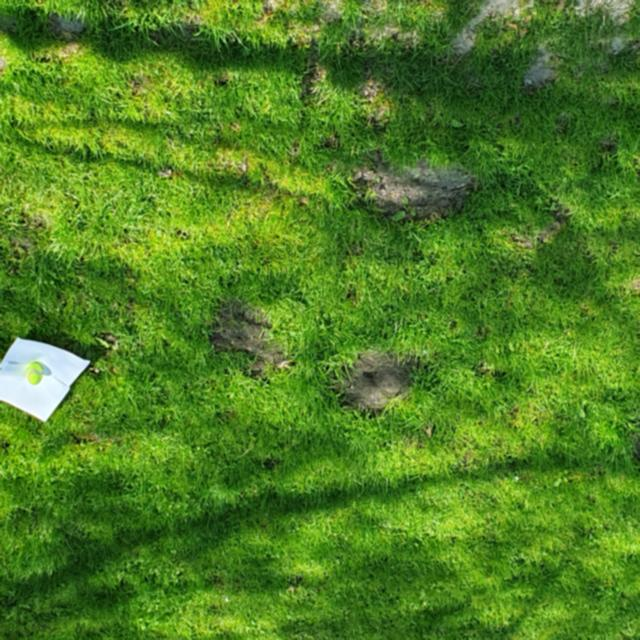green: (25, 363, 43, 385)
